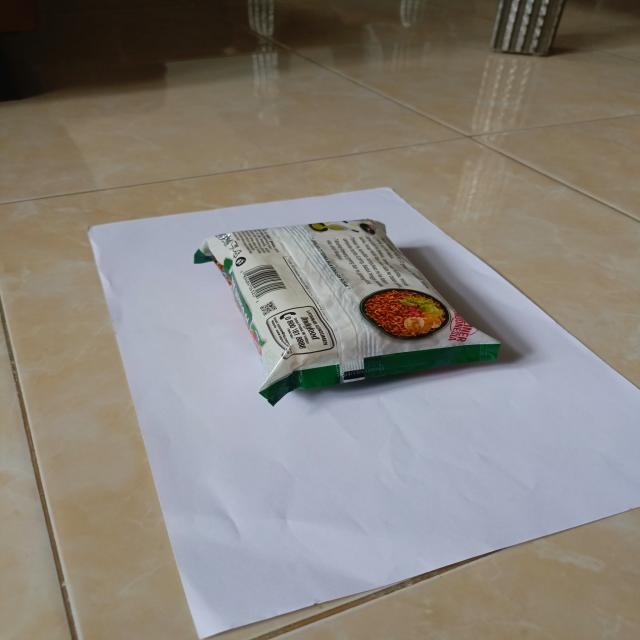gery-salut-coconut: (192, 219, 503, 407)
